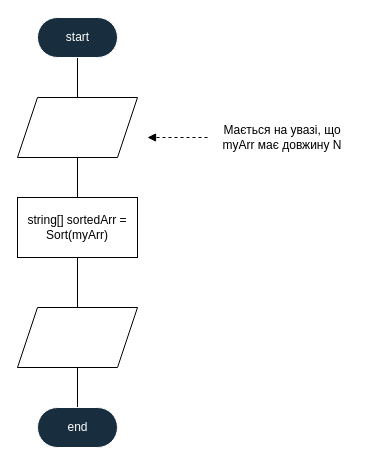
The diagram is 375 pixels wide and 465 high, and some of its shapes have lost their labels. The shapes that lost their labels are listed below. From the top down, each one's box as (x1, y1, x2, y2) in pixels, then its label:
(16, 96, 138, 158): int N string[N] myArr
(16, 306, 138, 368): sortedArr
